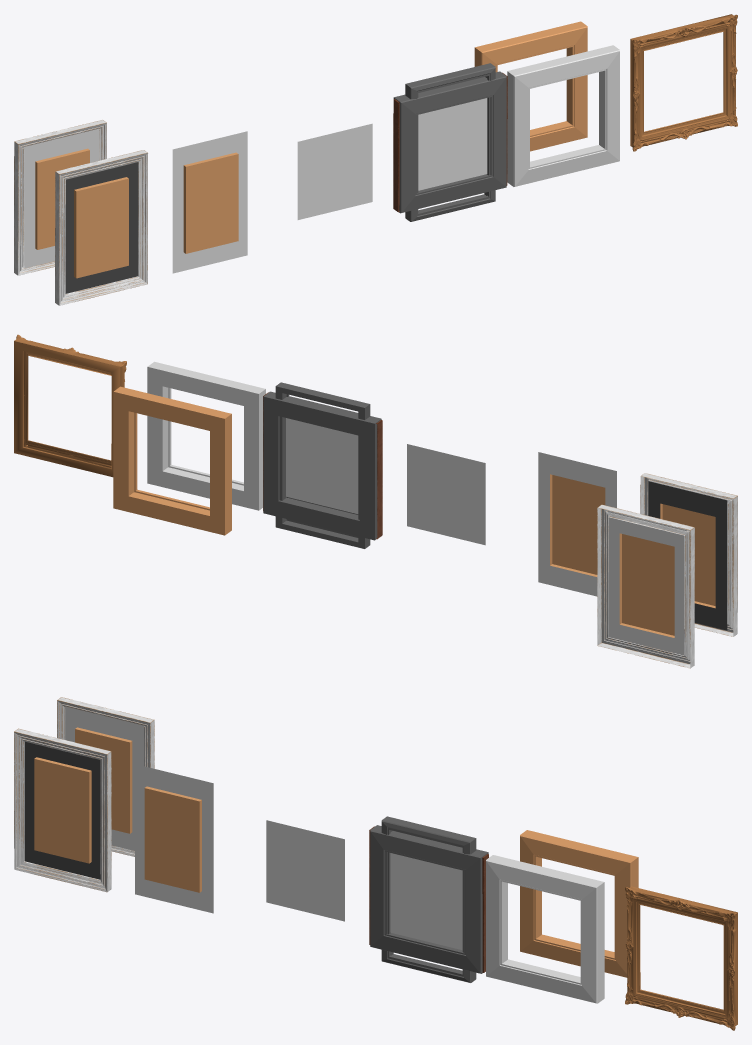
Rendered from frame1.glb.
3 views of the same model, one above another, from view 1: azimuth 30°, elevation 25°; view 2: azimuth 150°, elevation 25°; view 3: azimuth 330°, elevation 25° (orthographic). The views are drawn at different scales.
Visible parts, largest first — view 1: floatingFrame.001, frame_01_Target2, floatingFrame.002, modernframe, floatingFrame, SM_Frame_Ornate_01, artwork_plane, floatingFrame.003, frame_01_Target2.001, ClassicWoodFrame.001, object 7, ClassicWoodFrame.002 (+1 smaller); view 2: floatingFrame.003, frame_01_Target2.001, floatingFrame.001, modernframe, frame_01_Target2, floatingFrame, floatingFrame.002, artwork_plane, SM_Frame_Ornate_01, ClassicWoodFrame.002, object 7, ClassicWoodFrame.001 (+1 smaller); view 3: floatingFrame.001, frame_01_Target2, floatingFrame.002, modernframe, frame_01_Target2.001, floatingFrame, SM_Frame_Ornate_01, artwork_plane, ClassicWoodFrame.001, floatingFrame.003, object 7, ClassicWoodFrame.002 (+1 smaller).
Boxes of the visible parts, <box> form: floatingFrame.001: <box>172,131,247,273</box>; frame_01_Target2: <box>507,45,619,186</box>; floatingFrame.002: <box>65,162,137,293</box>; modernframe: <box>393,71,506,213</box>; floatingFrame: <box>297,123,372,219</box>; SM_Frame_Ornate_01: <box>630,14,737,151</box>; artwork_plane: <box>418,98,487,190</box>; floatingFrame.003: <box>24,128,98,268</box>; frame_01_Target2.001: <box>474,21,587,151</box>; ClassicWoodFrame.001: <box>55,150,147,305</box>; object 7: <box>405,63,495,221</box>; ClassicWoodFrame.002: <box>14,120,106,275</box>; floatingFrame.003: <box>608,511,686,660</box>; frame_01_Target2.001: <box>113,386,231,535</box>; floatingFrame.001: <box>538,452,616,596</box>; modernframe: <box>263,391,381,540</box>; frame_01_Target2: <box>147,361,265,510</box>; floatingFrame: <box>407,444,485,545</box>; floatingFrame.002: <box>648,481,727,630</box>; artwork_plane: <box>286,418,358,513</box>; SM_Frame_Ornate_01: <box>14,334,126,477</box>; ClassicWoodFrame.002: <box>597,504,694,668</box>; object 7: <box>275,382,370,548</box>; ClassicWoodFrame.001: <box>640,473,737,636</box>; floatingFrame.001: <box>135,764,213,913</box>; frame_01_Target2: <box>486,855,604,1003</box>; floatingFrame.002: <box>24,741,100,879</box>; modernframe: <box>370,825,488,973</box>; frame_01_Target2.001: <box>520,830,638,977</box>; floatingFrame: <box>266,820,344,921</box>; SM_Frame_Ornate_01: <box>625,886,737,1030</box>; artwork_plane: <box>390,853,462,950</box>; ClassicWoodFrame.001: <box>14,728,111,892</box>; floatingFrame.003: <box>65,706,143,850</box>; object 7: <box>381,816,476,982</box>; ClassicWoodFrame.002: <box>57,697,154,856</box>.
Bounding box in the file's own units: 9.11 × 1.72 × 1.12.
10 materials, 3 textured.
